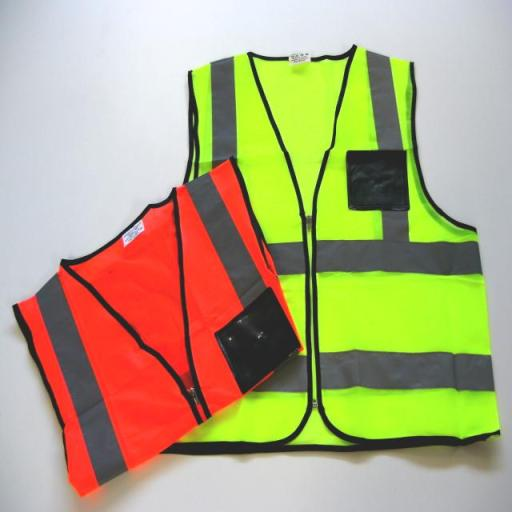vest: (7, 47, 512, 472)
